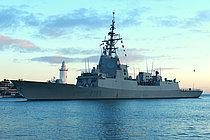MIL_Ship: (8, 10, 204, 98)
